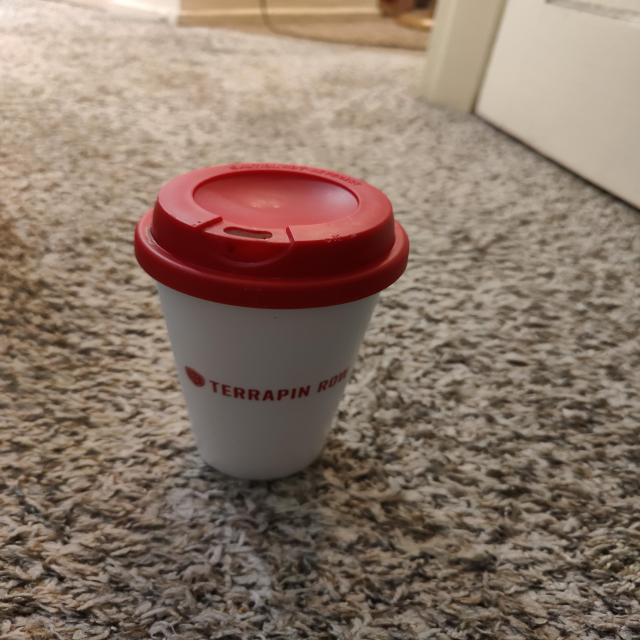mug: (145, 162, 413, 488)
